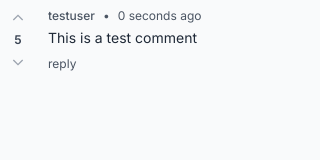
CommentItem › Voting › should show error message when not authenticated
The width and height of the screenshot is (320, 160).
Click the button named "Upvote": (18, 18) [8,8,28,28]
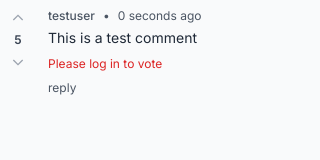
Expected: the text "Please log in to vote" is shown, [48,56,162,71]
